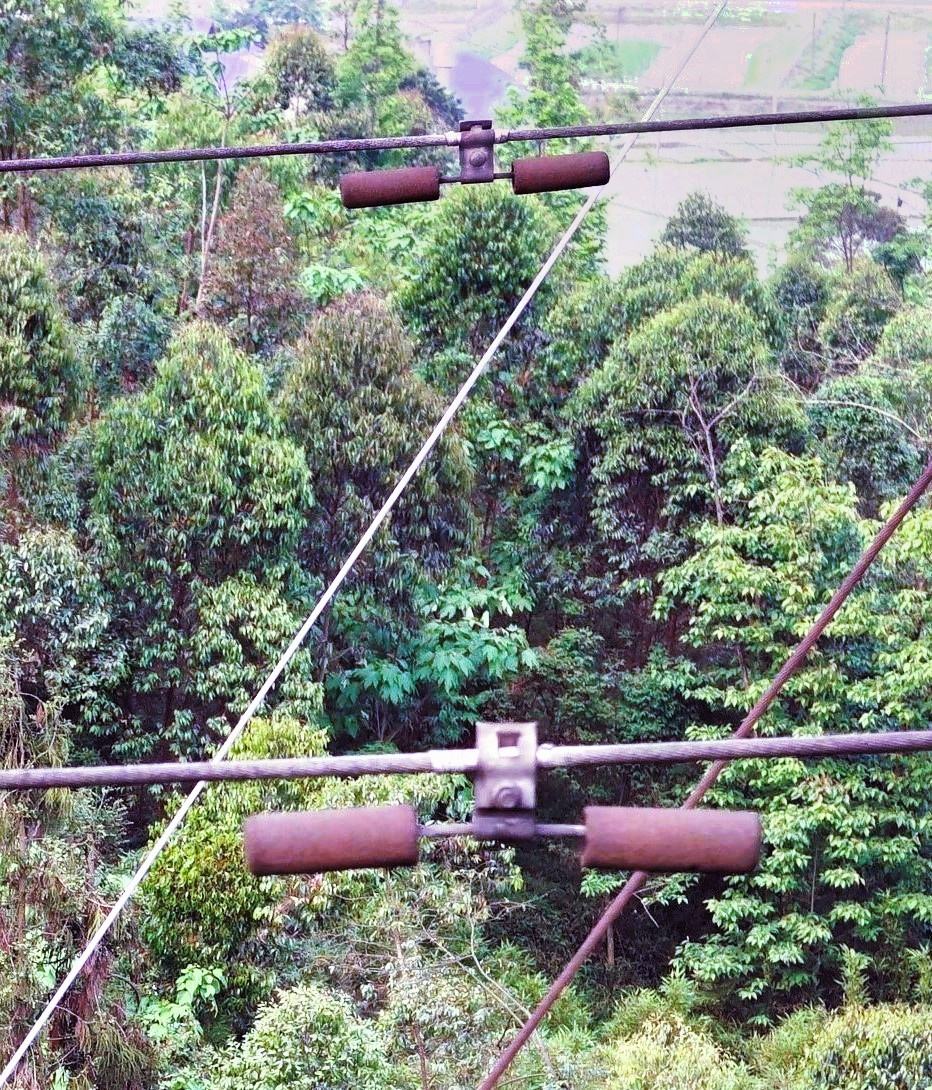Shockproof hammer: (232, 694, 783, 889), (332, 100, 622, 218)
